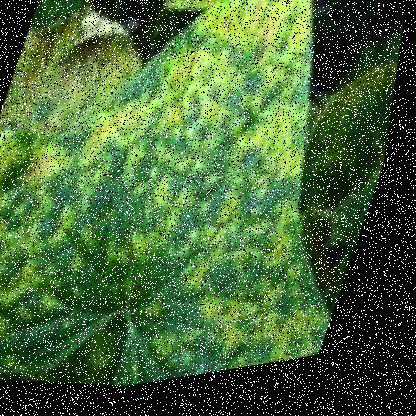DownyMildew: (0, 0, 408, 413)
